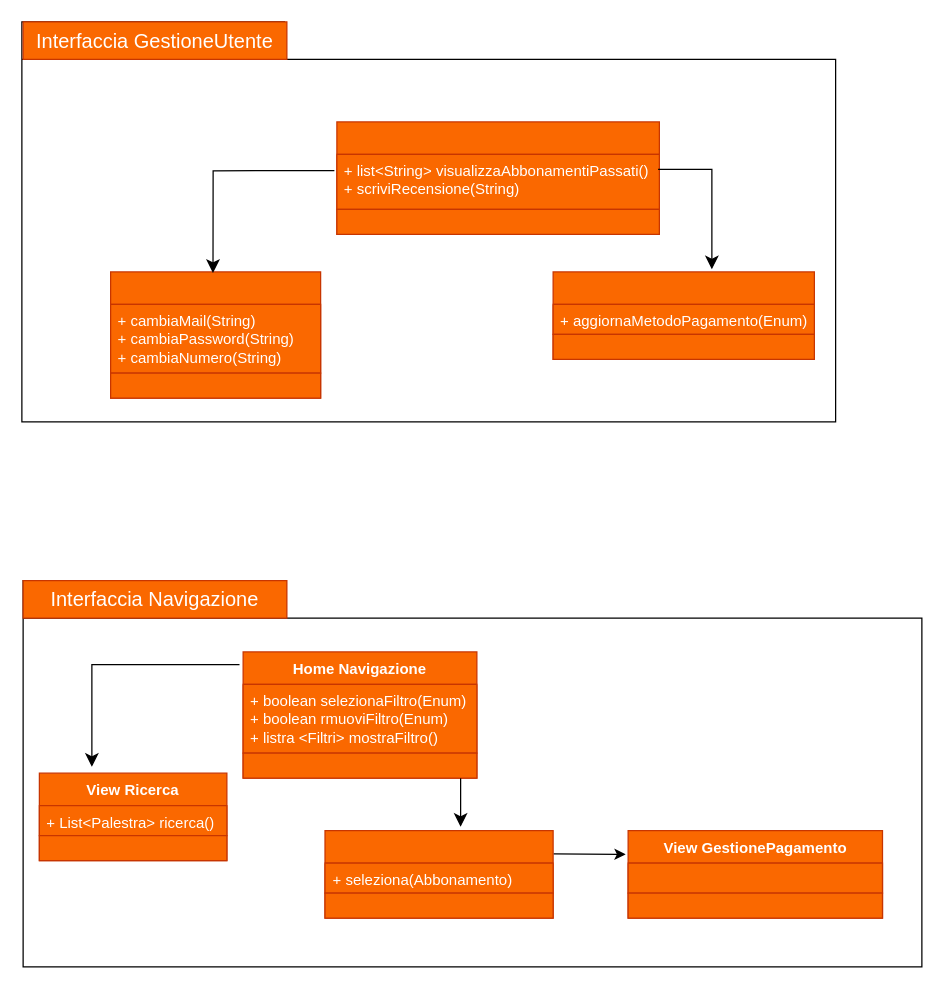
Image size: 944x989. Some labels were removed from this diagram. The box of each missing label's shape, as (x1, y1, x2, y2) in pixels:
+ selezionaMetodoPagamento(Tipo): (627, 862, 882, 893)
Home GestioneUtente: (336, 121, 659, 234)
View GestioneAccount: (109, 271, 321, 398)
View SelezioneAbbonamento: (324, 829, 553, 918)
ViewGestioneMetodoPagamento: (552, 271, 814, 359)
